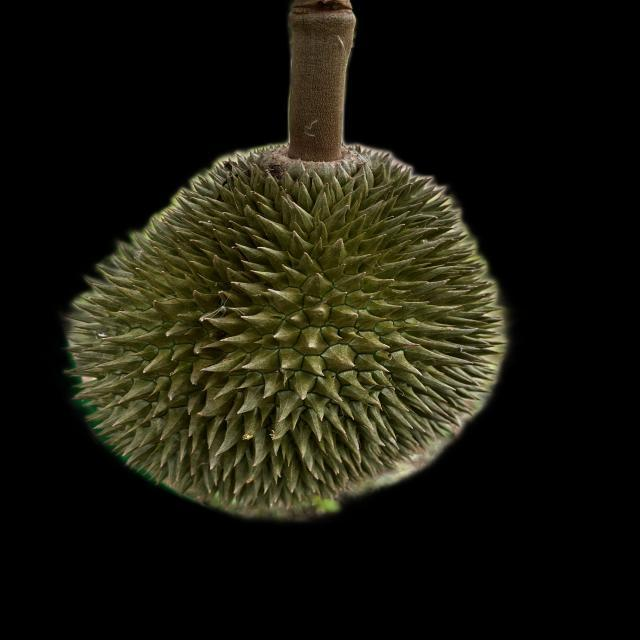immature: (60, 140, 510, 513)
